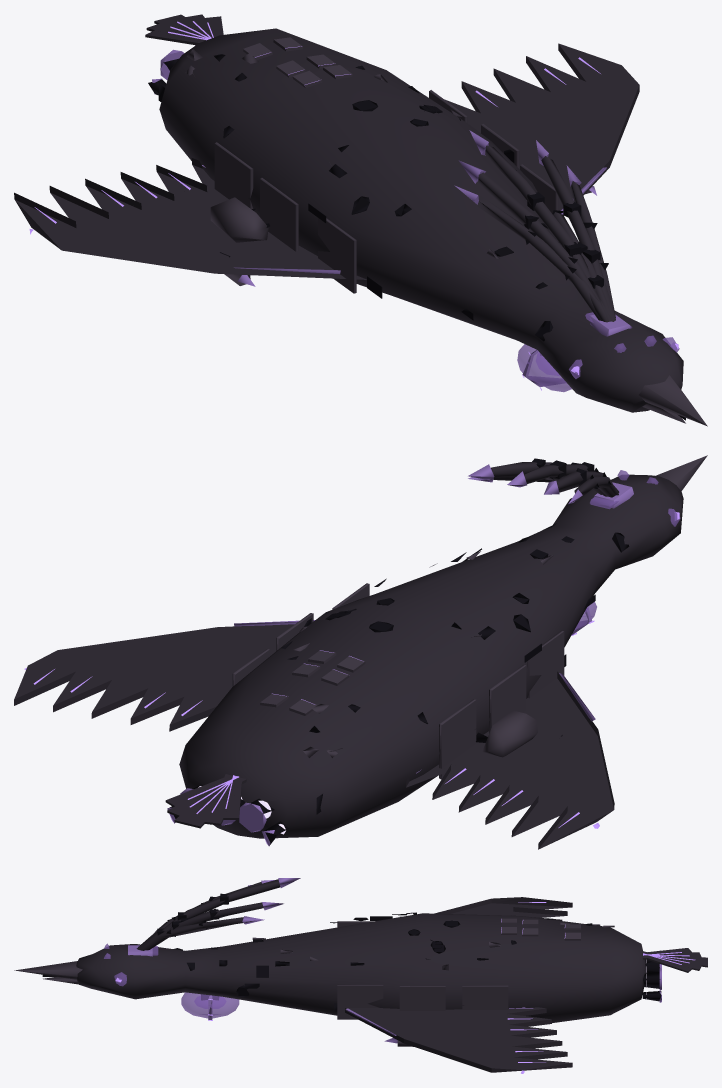
Rendered from choral-piesniarze-coalition-31-lod1.glb.
3 renders of one model, top to bottom at view 1: azimuth 30°, elevation 25°; view 2: azimuth 150°, elevation 25°; view 3: azimuth 270°, elevation 25°, orthographic. The views are drawn at different scales.
Size of the model in its own units: 60.08 by 20.1 by 94.35.
